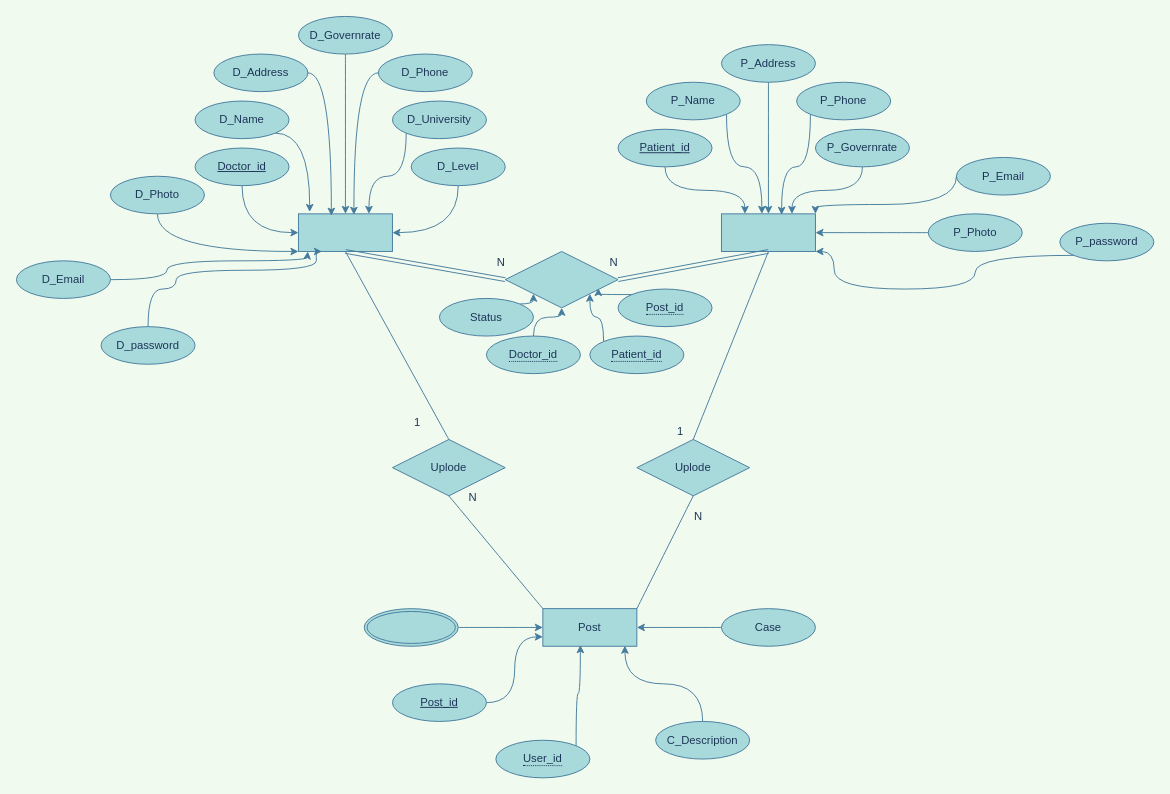
Some shapes in this 1170 by 794 pixel diagram are drawn without their labels. The box of each missing label's shape, as (x1, y1, x2, y2) in pixels:
Doctor: (298, 213, 392, 251)
Images: (363, 608, 458, 646)
Patient: (721, 213, 815, 251)
Send request: (504, 251, 618, 308)
